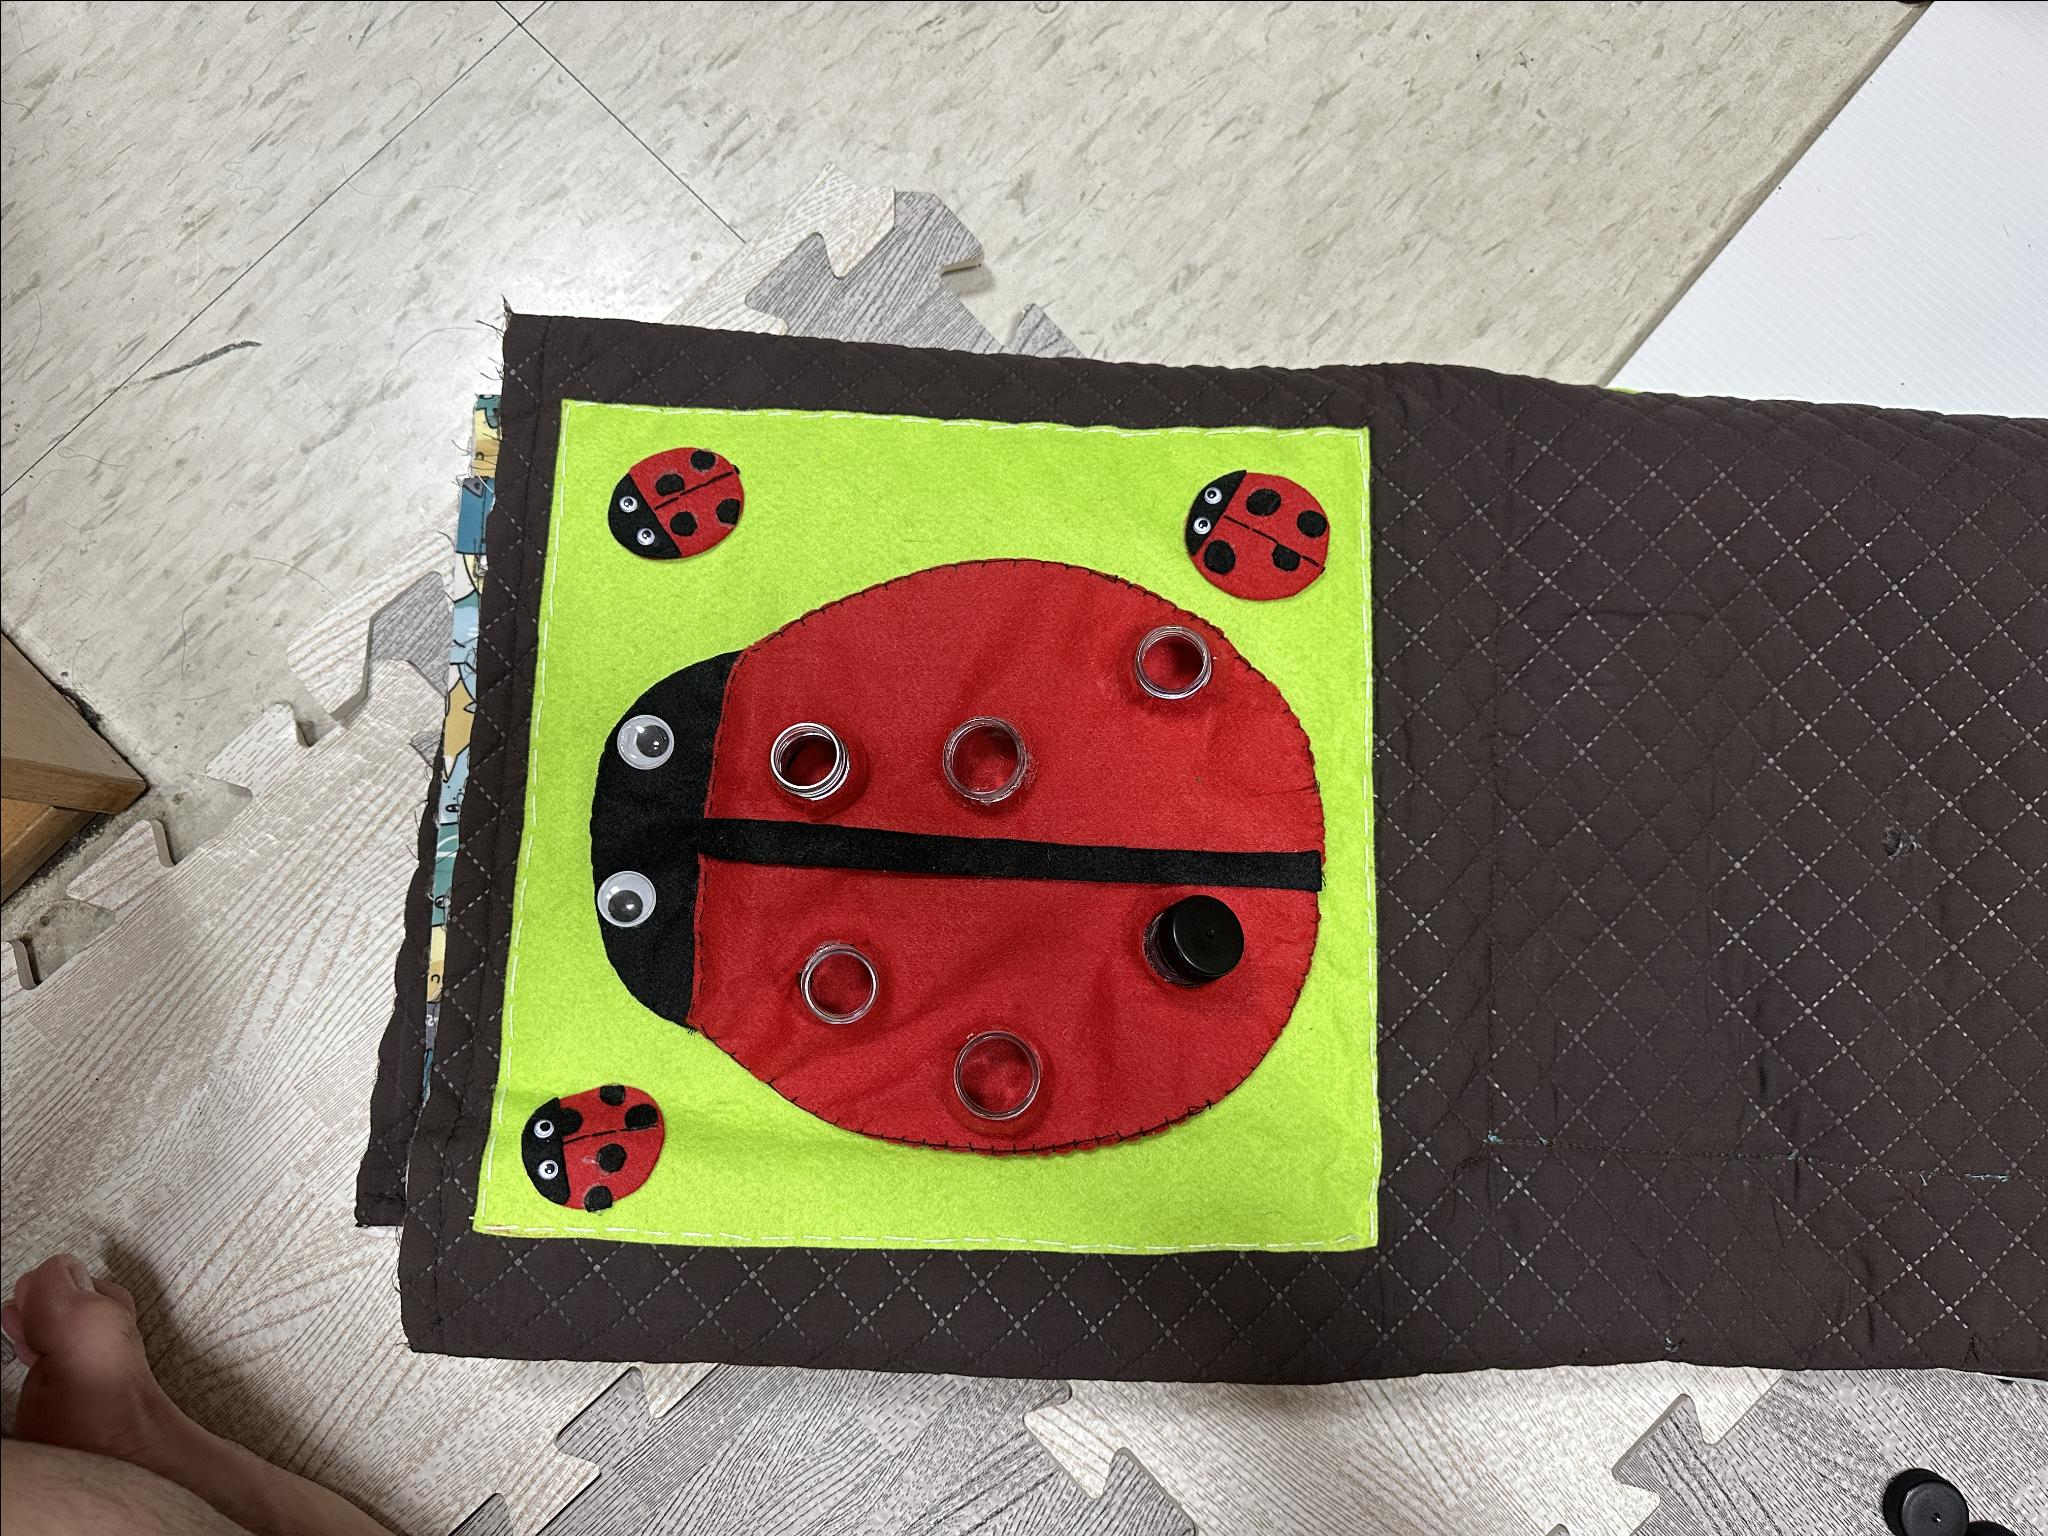cap_ng: (1121, 884, 1271, 1012)
